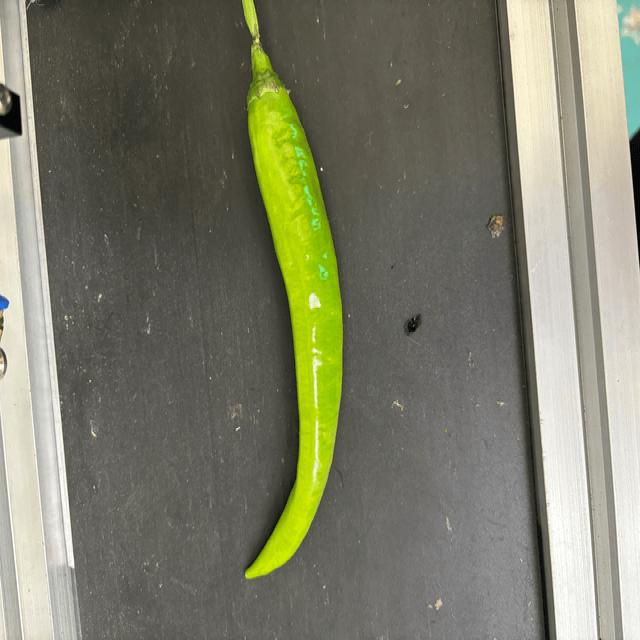chili: (242, 73, 344, 580)
